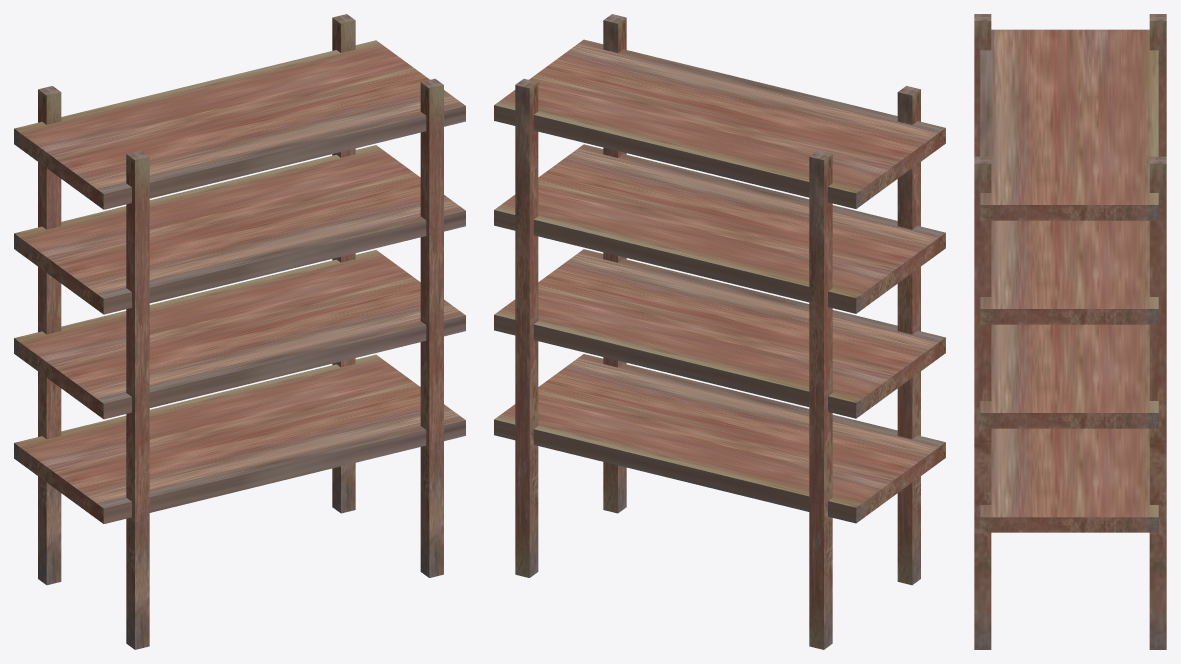
File: armario corredor.fbx
3 views of the same model, side by side, from view 1: azimuth 30°, elevation 25°; view 2: azimuth 150°, elevation 25°; view 3: azimuth 270°, elevation 25° (orthographic).
Parts seen in each view (by area): view 1: pCube726, pCube728, pCube729, pCube727, pCube679, pCube725, pCube723, pCube724; view 2: pCube726, pCube729, pCube728, pCube727, pCube723, pCube724, pCube679, pCube725; view 3: pCube726, pCube727, pCube728, pCube729, pCube724, pCube725, pCube723, pCube679.
Boxes of the visible parts, x1,y1,x2,y2 form: pCube726: (14,40,465,209); pCube728: (14,250,465,419); pCube729: (14,354,465,523); pCube727: (14,145,465,314); pCube679: (126,150,149,649); pCube725: (420,78,443,577); pCube723: (38,86,61,585); pCube724: (332,14,355,513); pCube726: (494,39,945,208); pCube729: (494,354,945,523); pCube728: (494,249,945,418); pCube727: (494,144,945,313); pCube723: (809,150,832,649); pCube724: (515,78,538,577); pCube679: (897,86,920,585); pCube725: (603,14,626,513); pCube726: (980,29,1158,220); pCube727: (980,220,1158,324); pCube728: (980,324,1158,428); pCube729: (980,428,1158,532); pCube724: (1149,156,1166,649); pCube725: (974,156,991,649); pCube723: (1149,14,1166,156); pCube679: (974,14,991,156).
Size of the model in its own units: 5.69 by 7.35 by 2.64.
